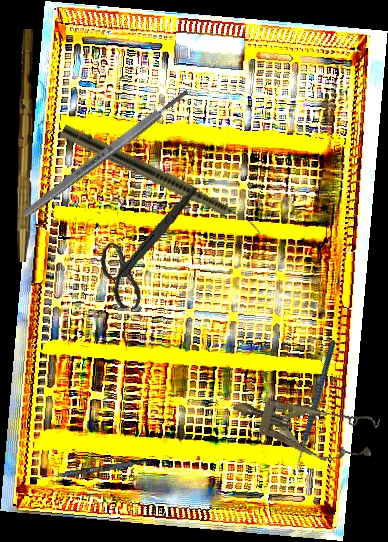Chopper: (255, 339, 379, 480)
Handpiece: (58, 123, 267, 237)
Iris Scissors: (95, 178, 200, 315)
Scalpel Handle: (20, 86, 192, 220), (17, 29, 35, 262)
Spatula Surgical: (33, 455, 159, 484)
Speculum: (226, 379, 381, 472)
